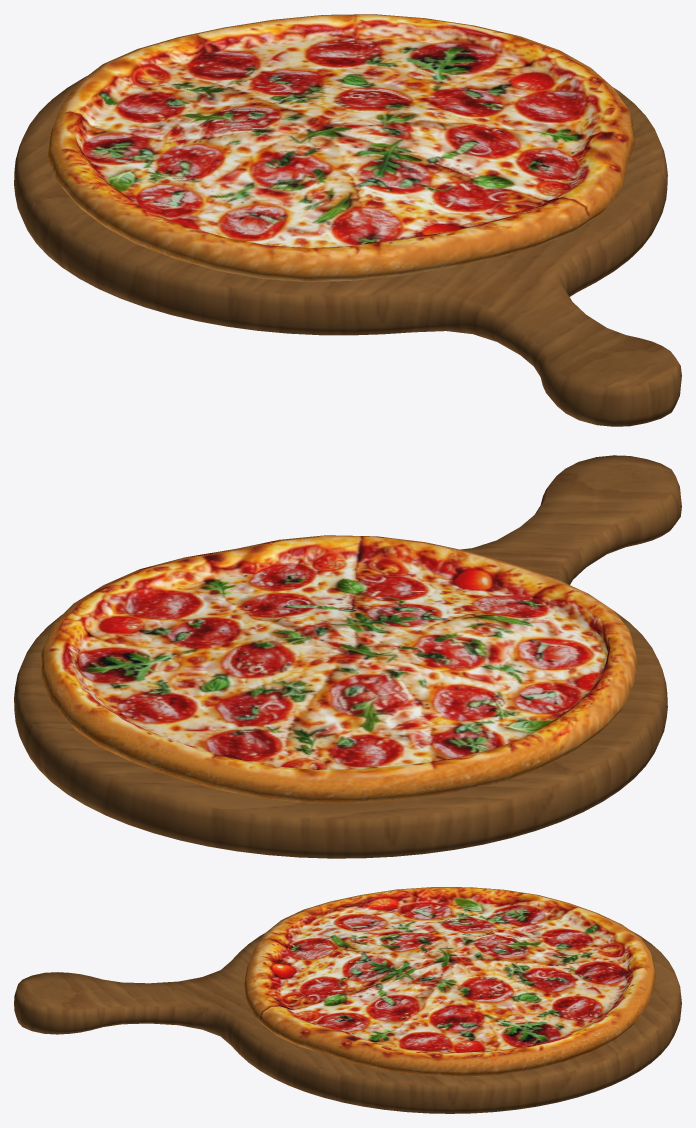
Rendered from pizza__tray.glb.
3 views of the same model, one above another, from view 1: azimuth 30°, elevation 25°; view 2: azimuth 150°, elevation 25°; view 3: azimuth 270°, elevation 25° (orthographic). The views are drawn at different scales.
Parts seen in each view (by area): view 1: Object_2; view 2: Object_2; view 3: Object_2.
Part boxes in pixels (bbox=[...]): Object_2: bbox=[14, 14, 681, 426]; Object_2: bbox=[14, 455, 681, 858]; Object_2: bbox=[14, 887, 681, 1113].
Size of the model in its own units: 5.34 by 0.6911 by 7.69.
1 material, 1 textured.
